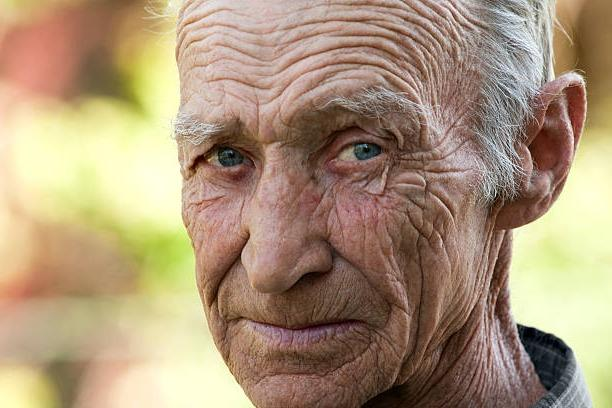Wrinkles: (270, 62, 418, 101), (273, 45, 399, 75), (193, 19, 388, 34), (185, 30, 339, 48), (368, 23, 436, 59), (377, 12, 443, 48), (295, 78, 364, 99), (183, 59, 272, 75), (217, 44, 296, 62), (332, 34, 413, 50), (425, 188, 455, 227), (406, 213, 434, 252), (178, 10, 219, 33), (208, 78, 269, 89), (323, 68, 361, 79), (407, 195, 424, 211), (426, 169, 471, 174), (255, 93, 259, 136)
